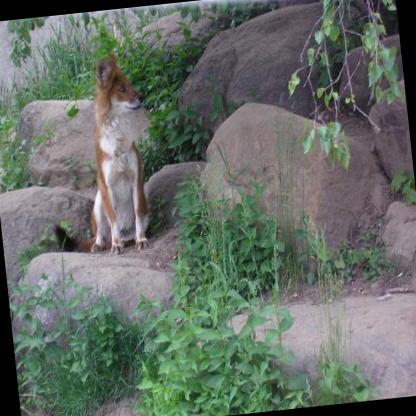dhole: (32, 44, 159, 262)
